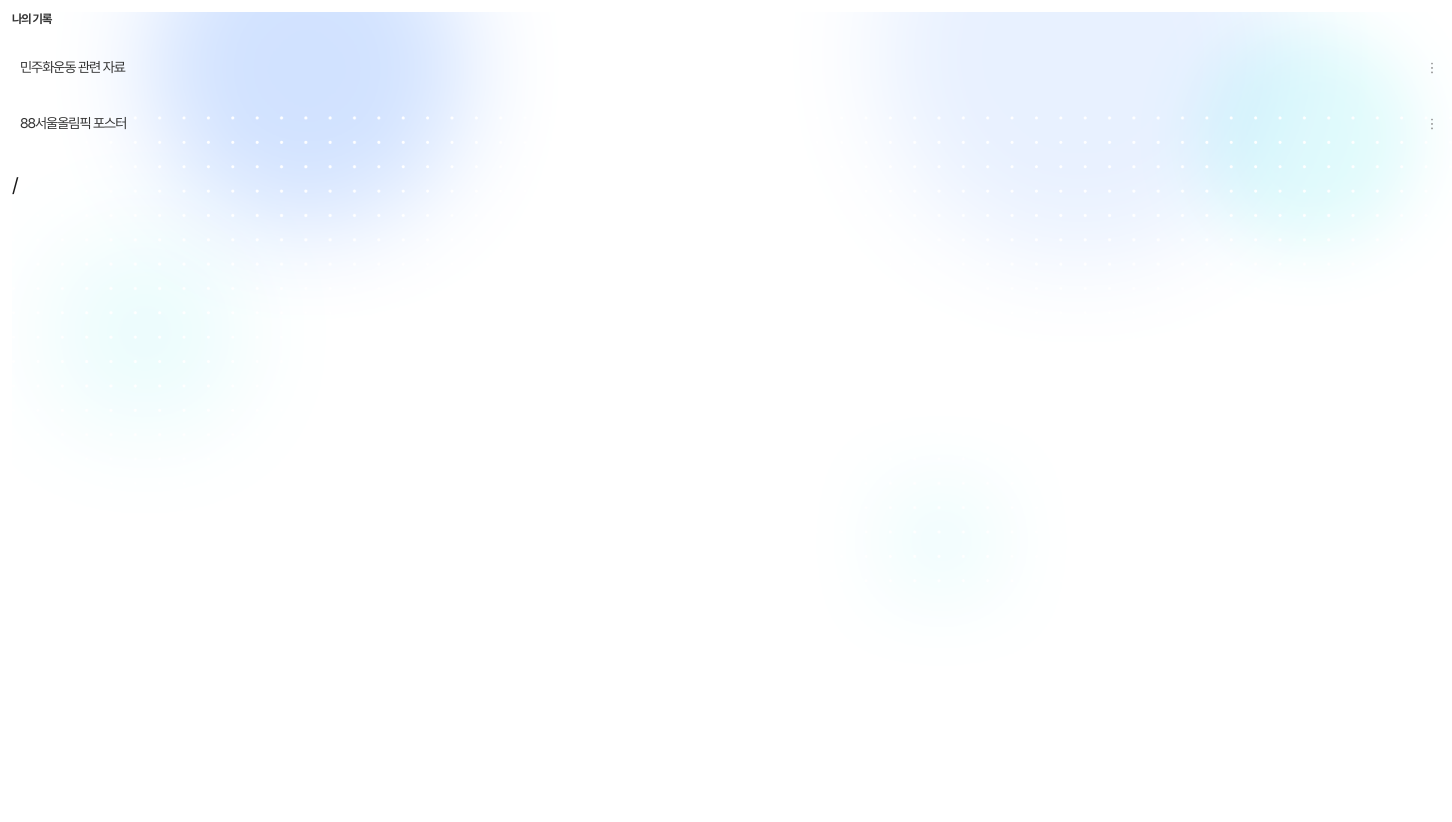
케밥 메뉴는 Escape 키로 닫힌다(퍼블 lnb.js 계약)
The image size is (1452, 822).
Check: the text "민주화운동 관련 자료" is shown, box [20,59,125,75]
Click the 1st button named "더보기": (1432, 68) [1420,56,1444,80]
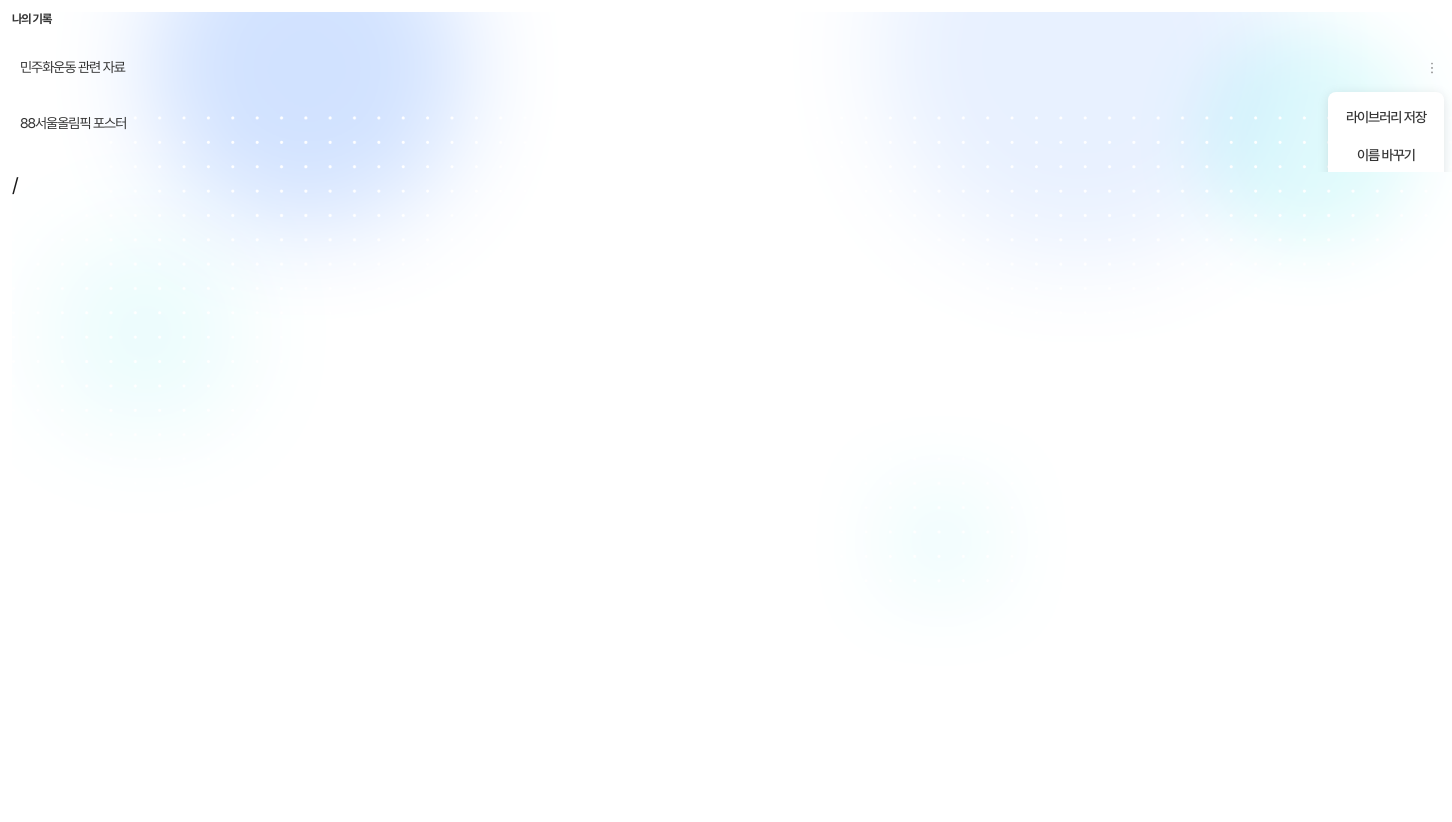
Check: the menu is shown, box [1328,92,1444,172]
Press Escape
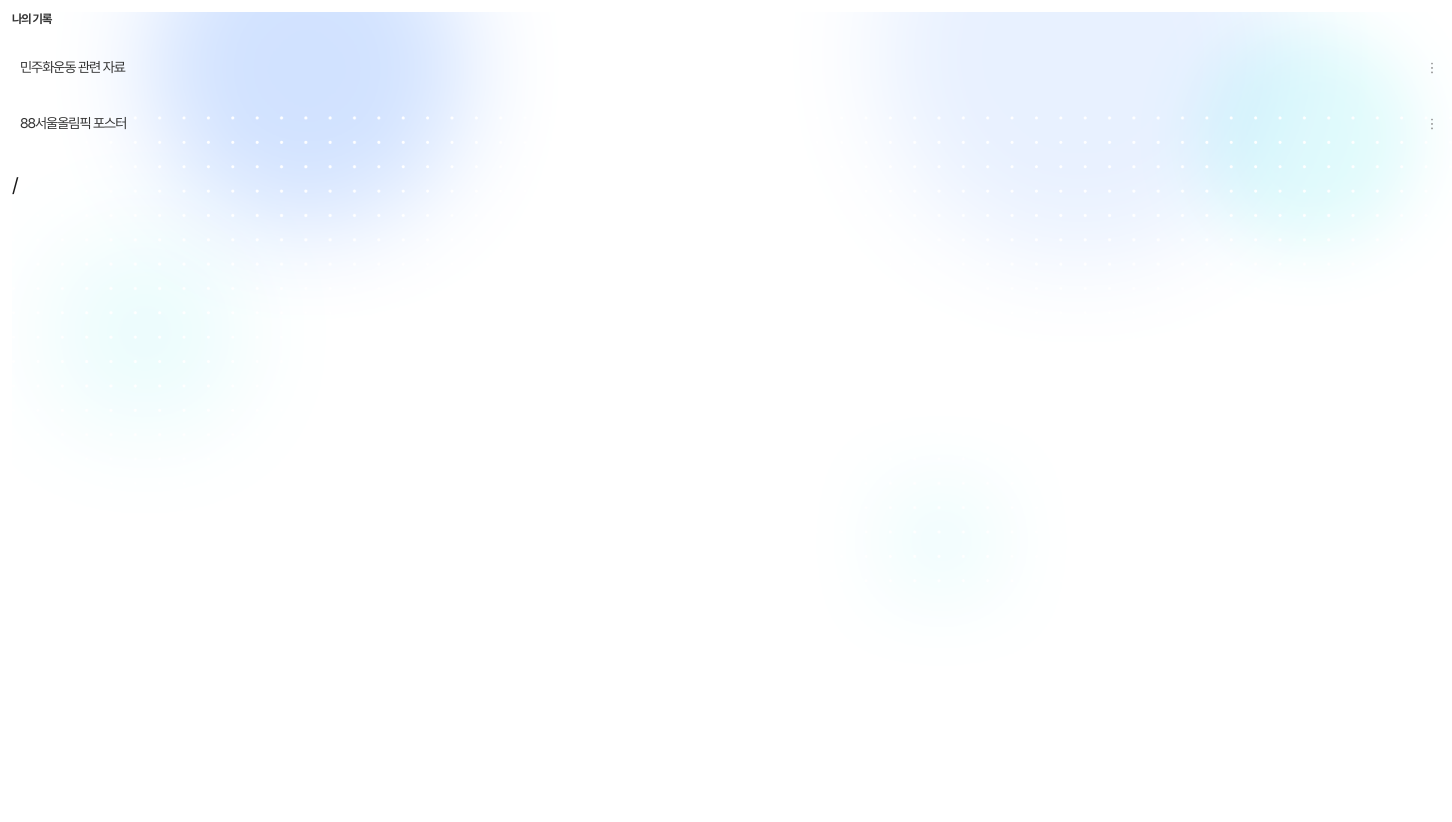
Check: the menu is gone
